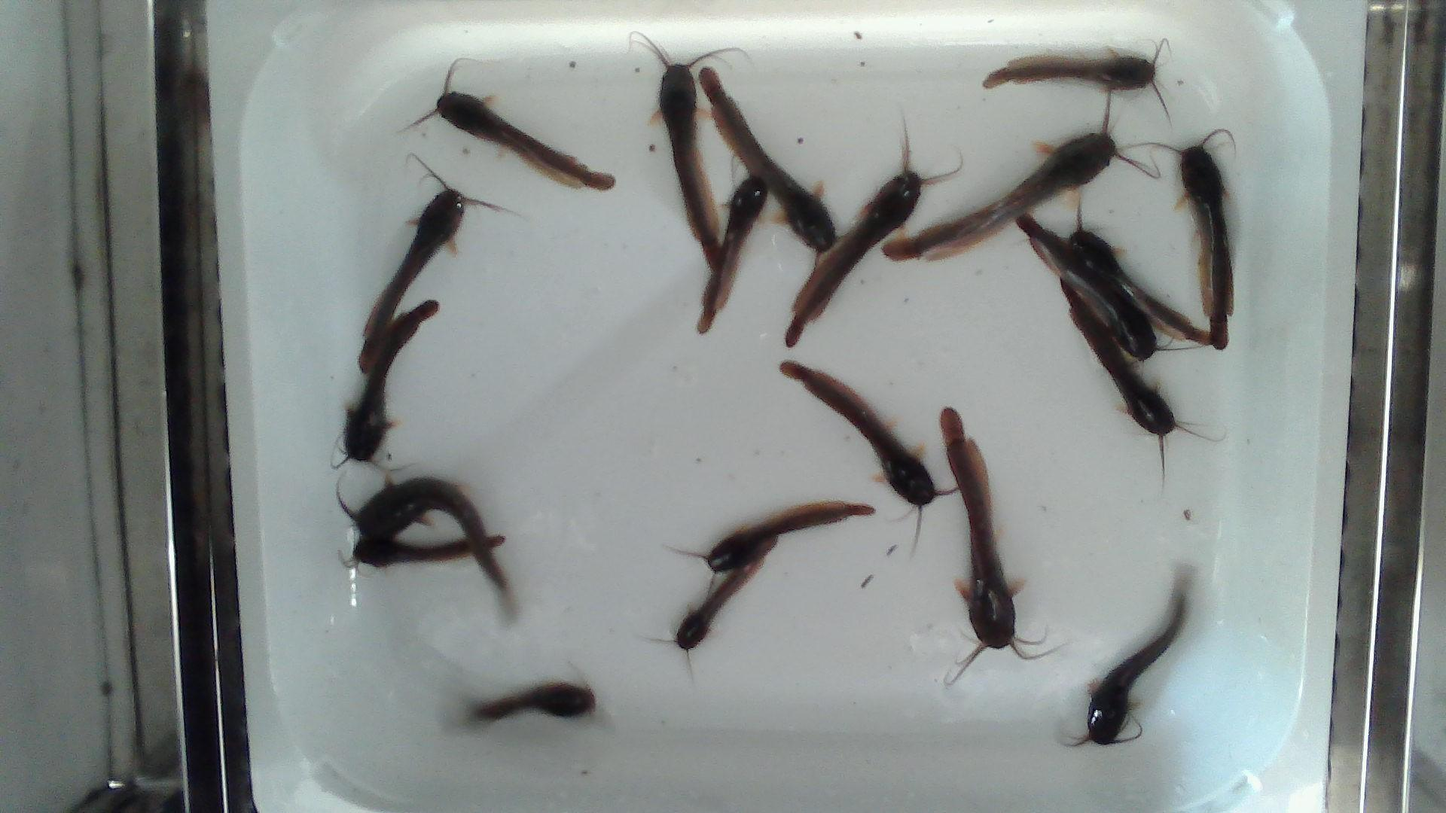lele: (882, 92, 1161, 261), (785, 123, 960, 347), (358, 154, 507, 373), (1060, 279, 1219, 481), (780, 361, 955, 544), (940, 407, 1048, 684), (1017, 213, 1204, 361), (630, 32, 746, 266), (410, 62, 615, 190), (700, 68, 835, 251), (1130, 128, 1236, 351), (1067, 192, 1214, 345), (669, 502, 876, 600), (337, 474, 509, 589), (329, 300, 440, 473), (1066, 588, 1185, 746), (647, 540, 777, 679), (982, 40, 1172, 122), (696, 175, 770, 335), (340, 536, 508, 571), (474, 682, 595, 719)
